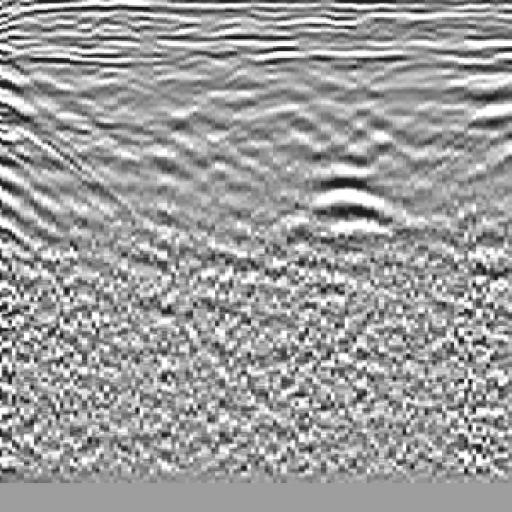metalic: (278, 157, 418, 280)
nonmetalic: (2, 61, 96, 298)
